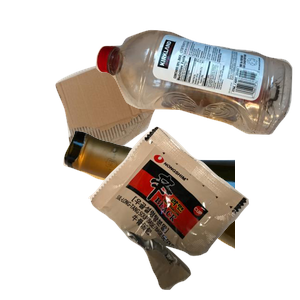cardboard: (53, 45, 221, 204)
glass: (60, 128, 300, 300)
plastic: (93, 27, 300, 154)
trash: (86, 124, 300, 300)
